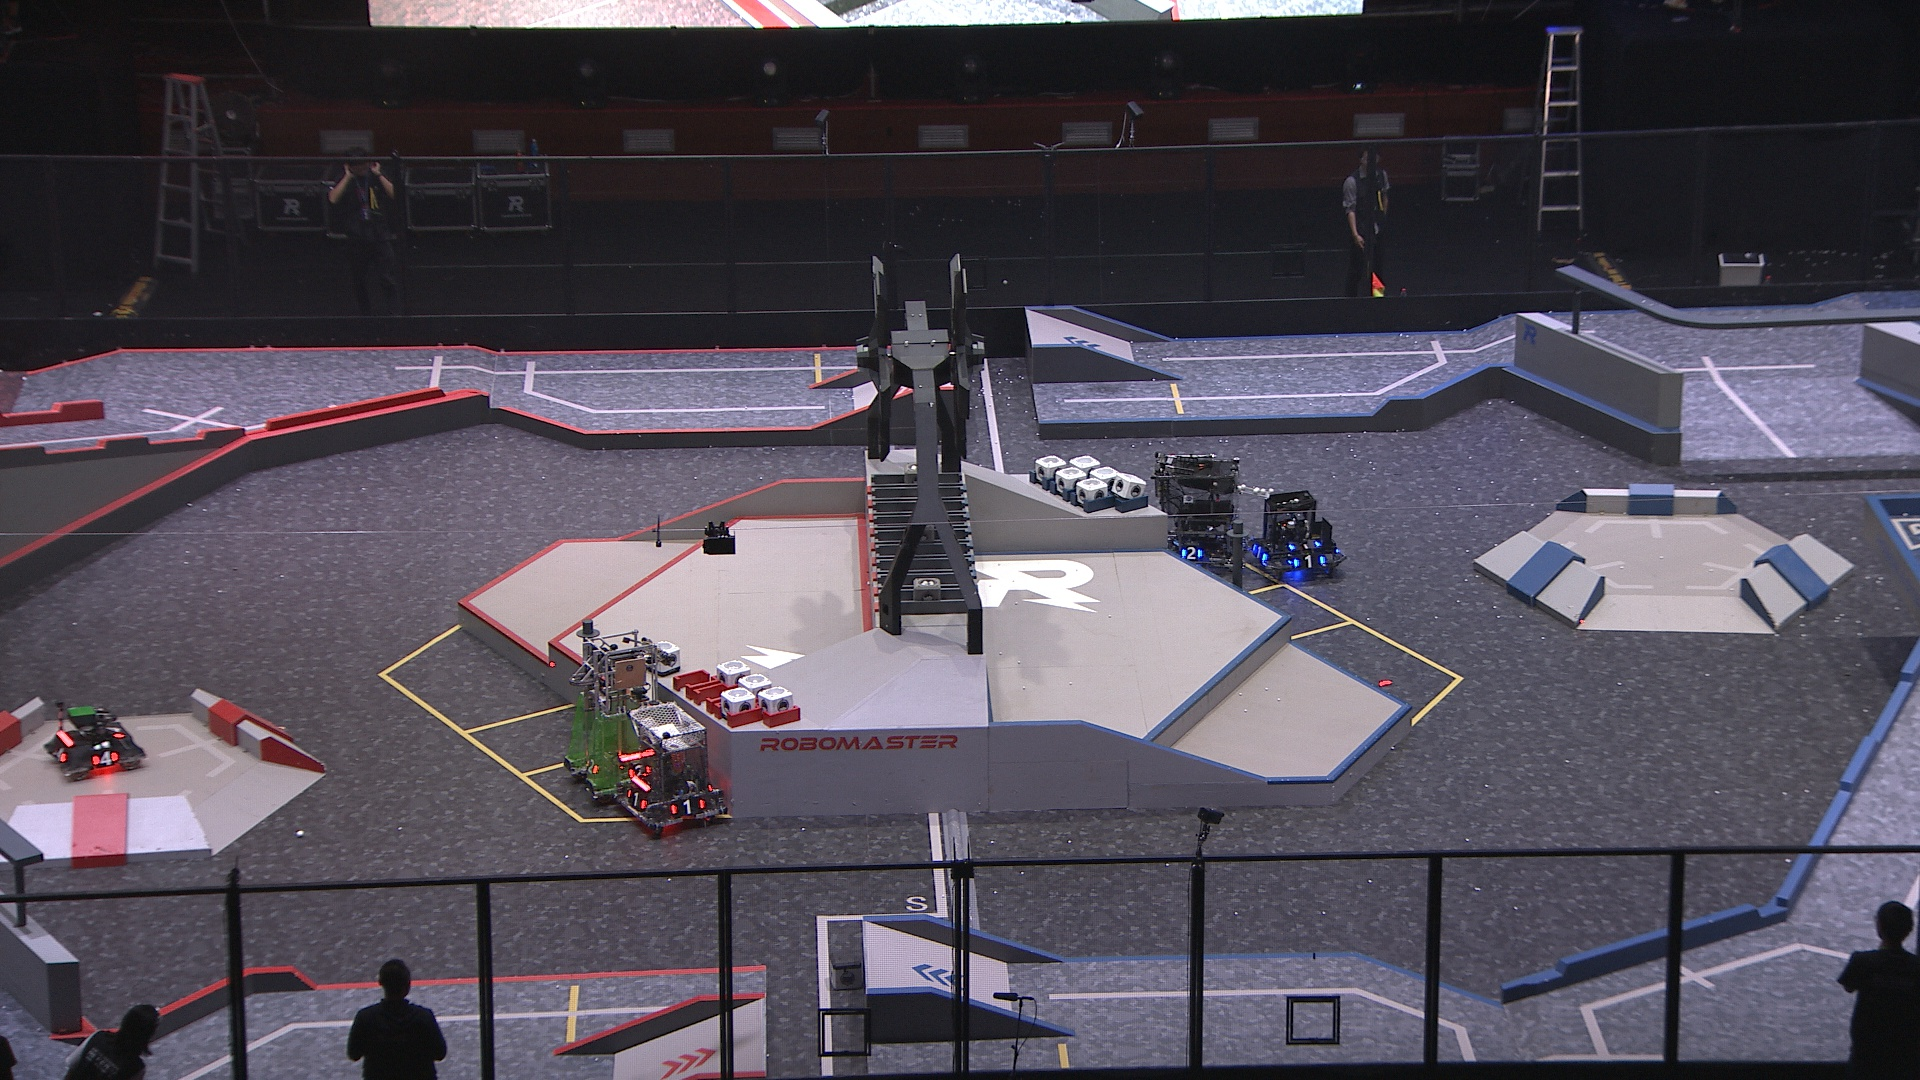armor: (669, 798, 707, 816), (1294, 553, 1328, 568), (626, 789, 650, 811), (1179, 546, 1205, 564), (91, 750, 120, 765), (103, 723, 128, 738), (51, 744, 71, 764), (1284, 541, 1323, 550), (1251, 542, 1269, 562), (580, 757, 600, 774), (628, 764, 651, 777)
car: (558, 628, 679, 799), (604, 702, 728, 832), (1149, 452, 1249, 572), (1244, 487, 1346, 584), (40, 700, 142, 778)
